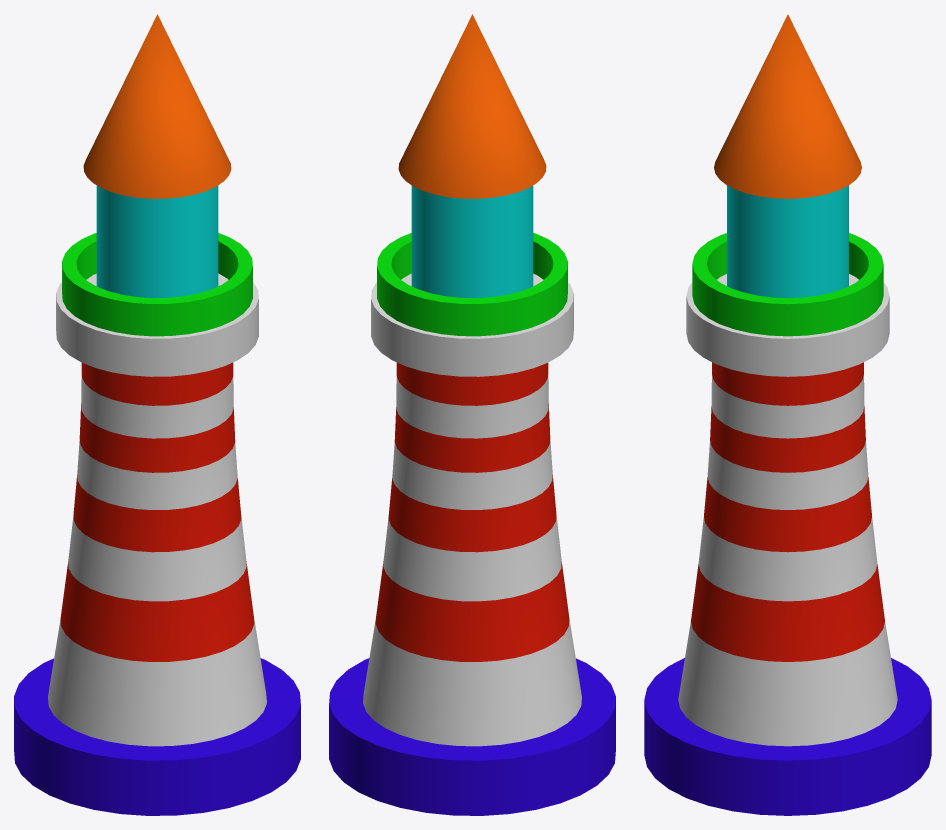
The model's file is leuchtturm.fbx.
3 renders of one model, left to right at view 1: azimuth 30°, elevation 25°; view 2: azimuth 150°, elevation 25°; view 3: azimuth 270°, elevation 25°, orthographic.
Parts seen in each view (by area): view 1: Cylinder; view 2: Cylinder; view 3: Cylinder.
Boxes of the visible parts, x1,y1,x2,y2 form: Cylinder: (14,14,300,815); Cylinder: (329,14,615,815); Cylinder: (644,14,931,815).
Size of the model in its own units: 136 by 388 by 136.
